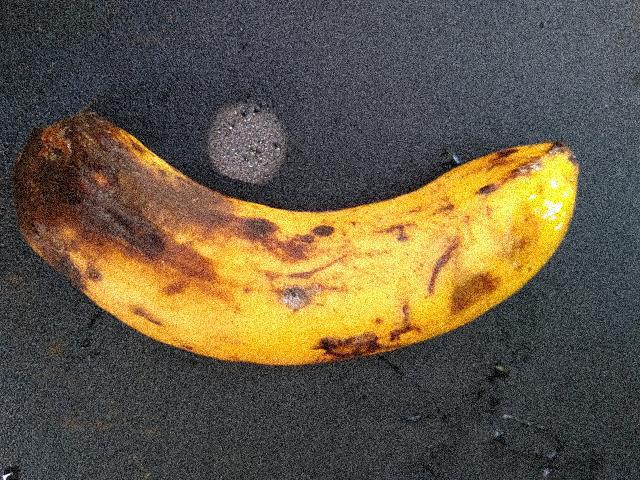rotten: (25, 71, 604, 396)
